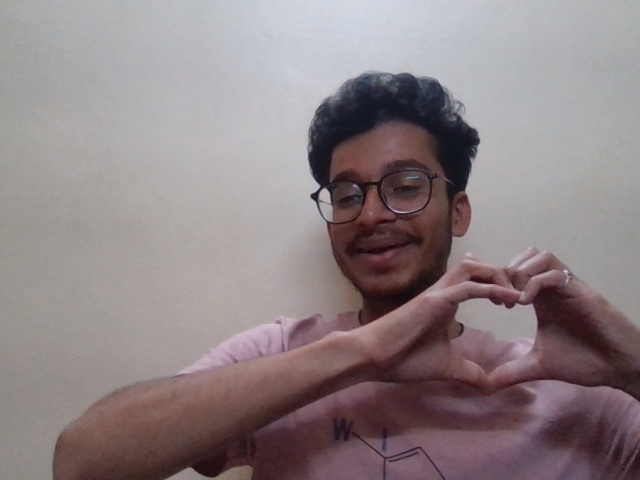silent-voice: (408, 247, 617, 418)
